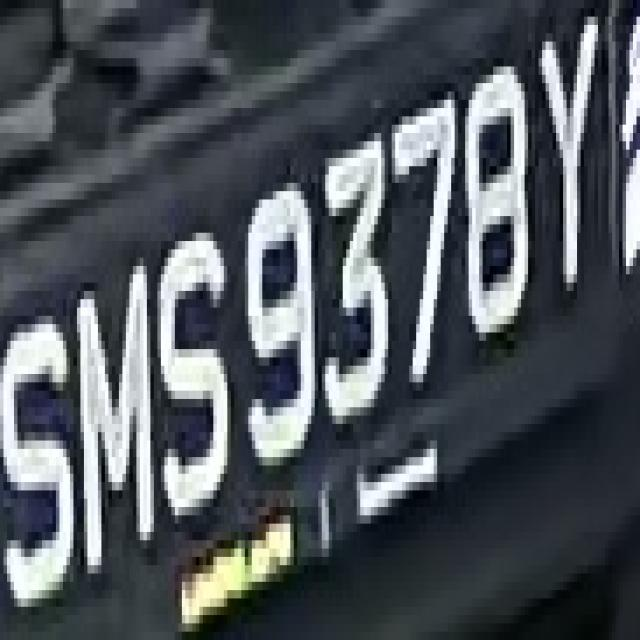3: (318, 108, 388, 441)
7: (388, 83, 462, 407)
8: (455, 42, 542, 340)
9: (238, 166, 322, 474)
M: (73, 241, 161, 582)
S: (154, 208, 234, 540), (4, 291, 80, 623)
Y: (528, 17, 612, 291)
